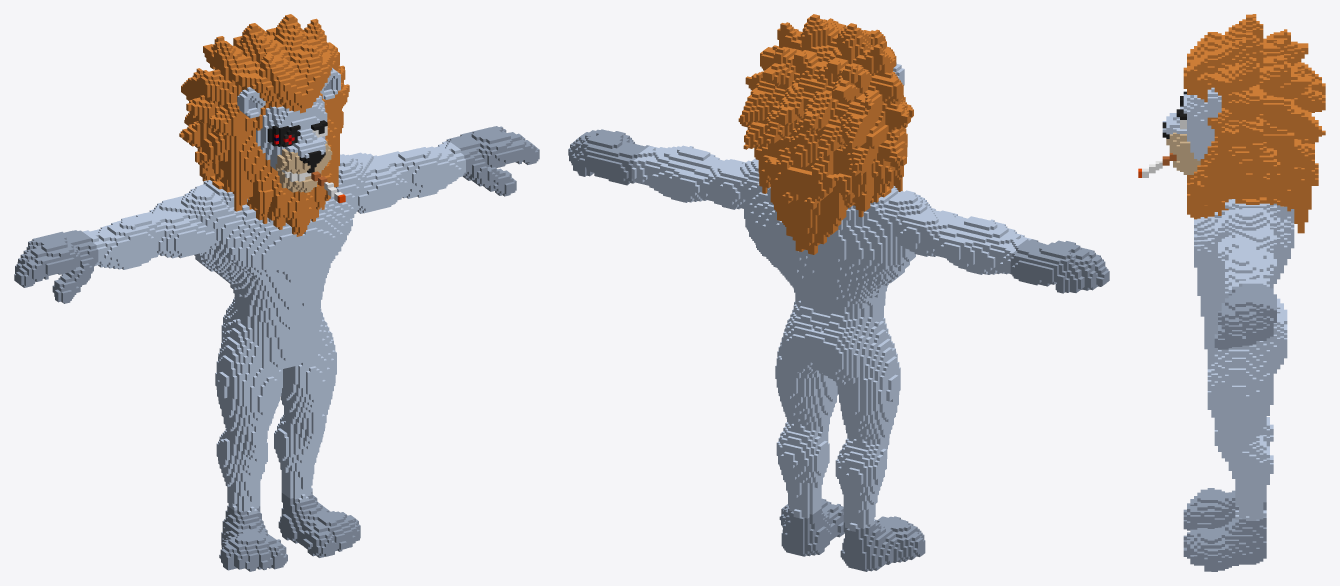
The model's file is 1004-TBC-joWY.glb.
3 views of the same model, side by side, from view 1: azimuth 30°, elevation 25°; view 2: azimuth 150°, elevation 25°; view 3: azimuth 270°, elevation 25° (orthographic). The views are drawn at different scales.
Parts seen in each view (by area): view 1: cigarette; view 2: cigarette; view 3: cigarette.
Boxes of the visible parts, x1,y1,x2,y2 form: cigarette: (14,14,539,571); cigarette: (568,14,1109,571); cigarette: (1138,14,1325,571).
Size of the model in its own units: 17.2 by 16.5 by 5.4.
Materials: 4 (4 with a texture image).
